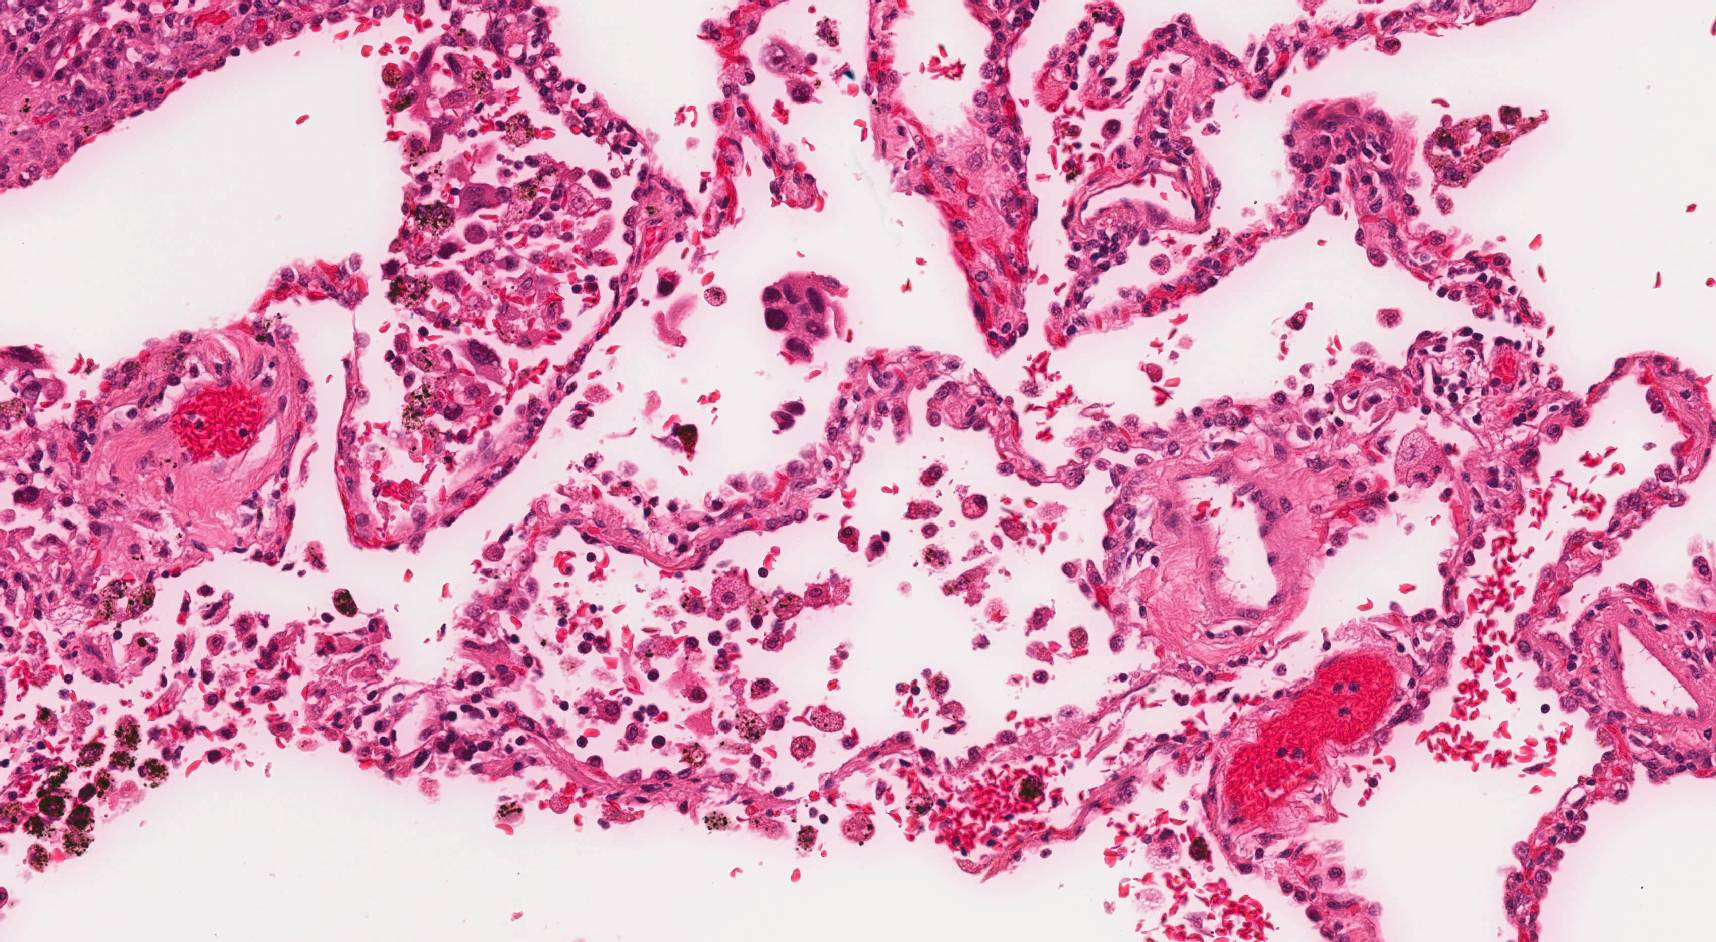stas: (761, 270, 847, 368)
